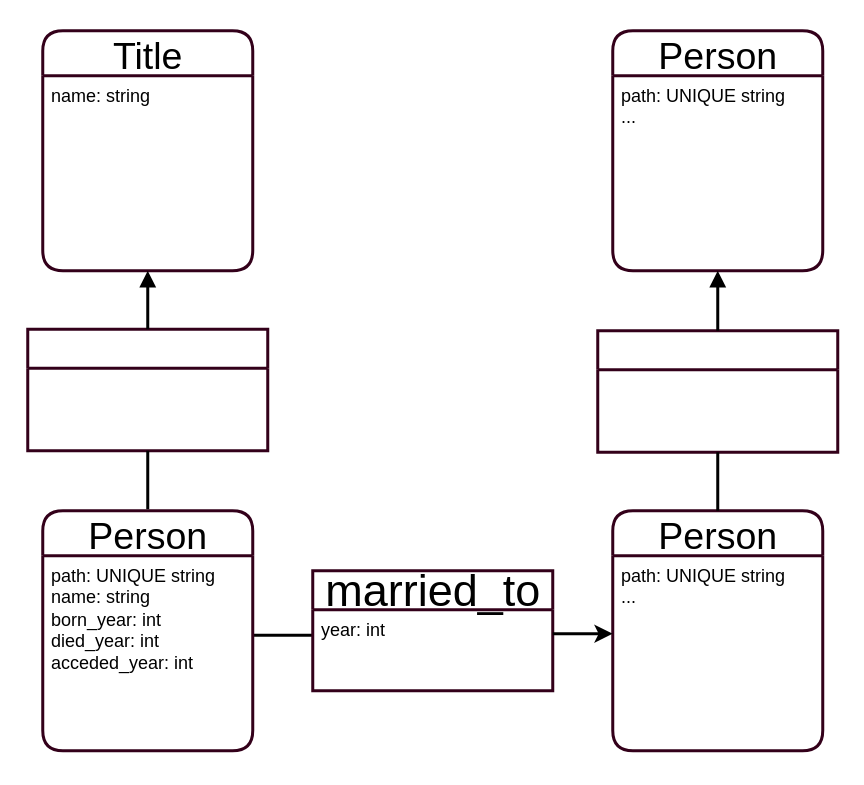
The diagram is 864 pixels wide and 785 high, and some of its shapes have lost their labels. Each missing label, with the centre of its shape:
child_of: the point at 717,390
holds: the point at 147,389
